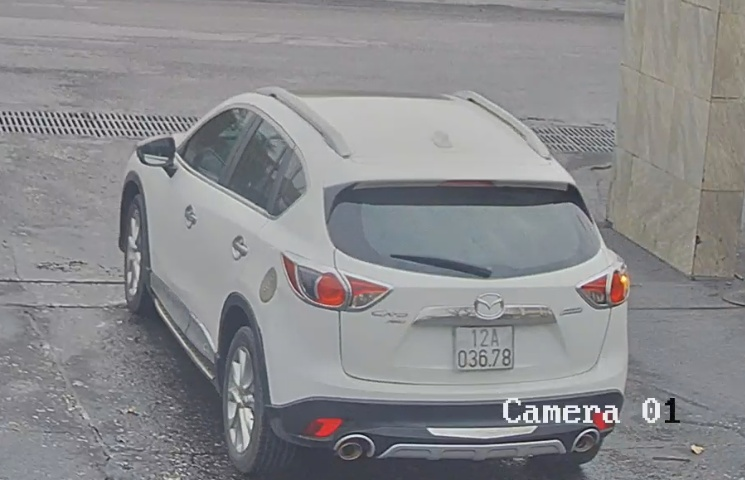vehicle plate: (448, 319, 517, 375)
